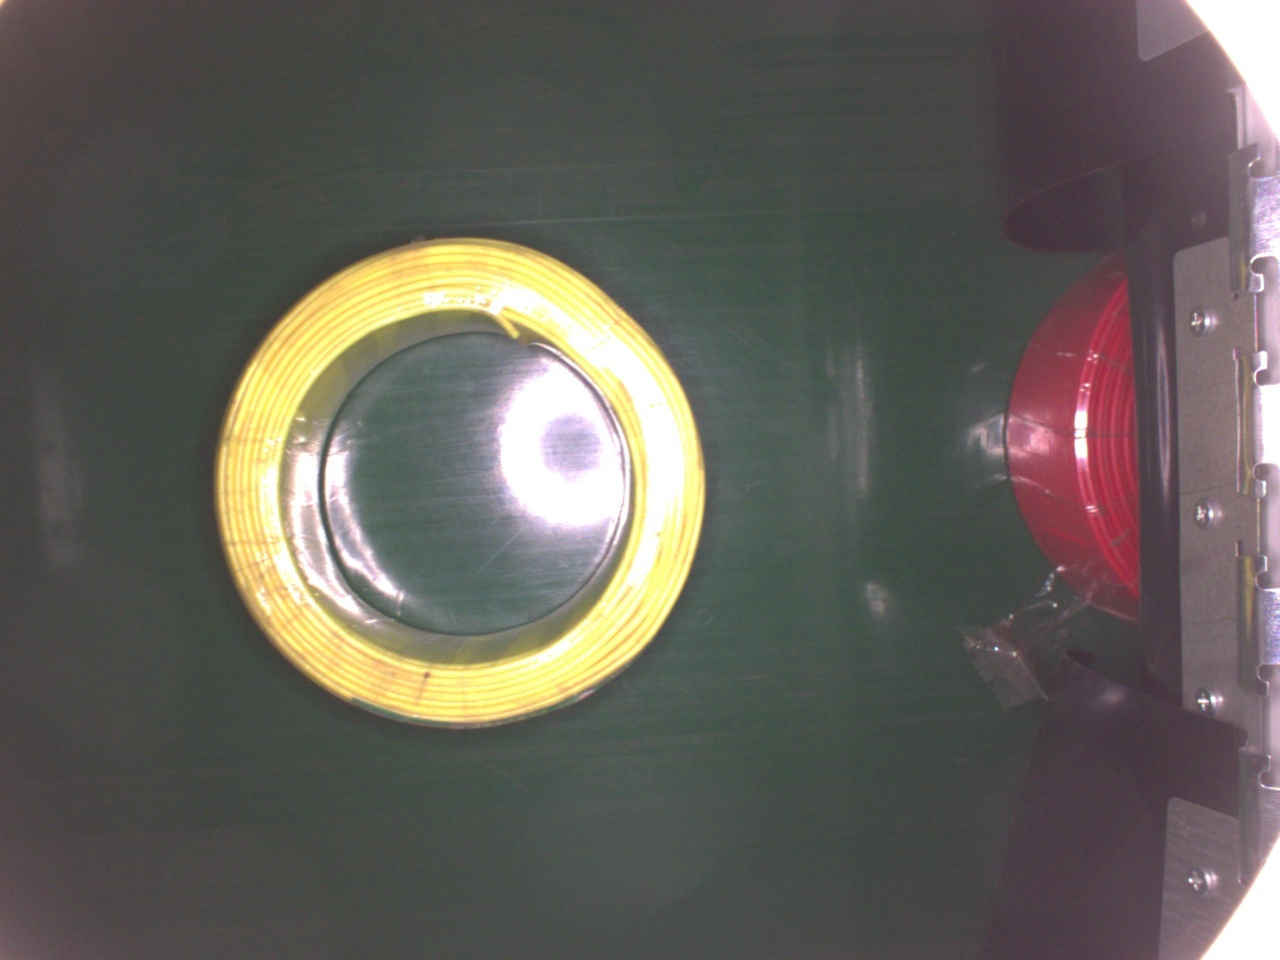red: (1006, 249, 1149, 619)
yellow: (200, 234, 709, 735)
